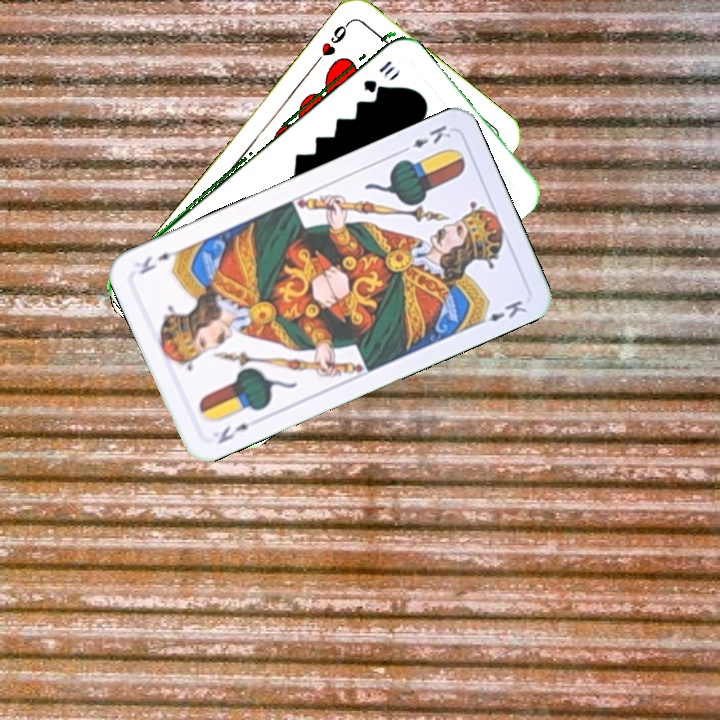EK: (396, 121, 454, 156), (213, 419, 252, 447)
G10: (359, 56, 398, 94)
H9: (310, 17, 353, 67)
